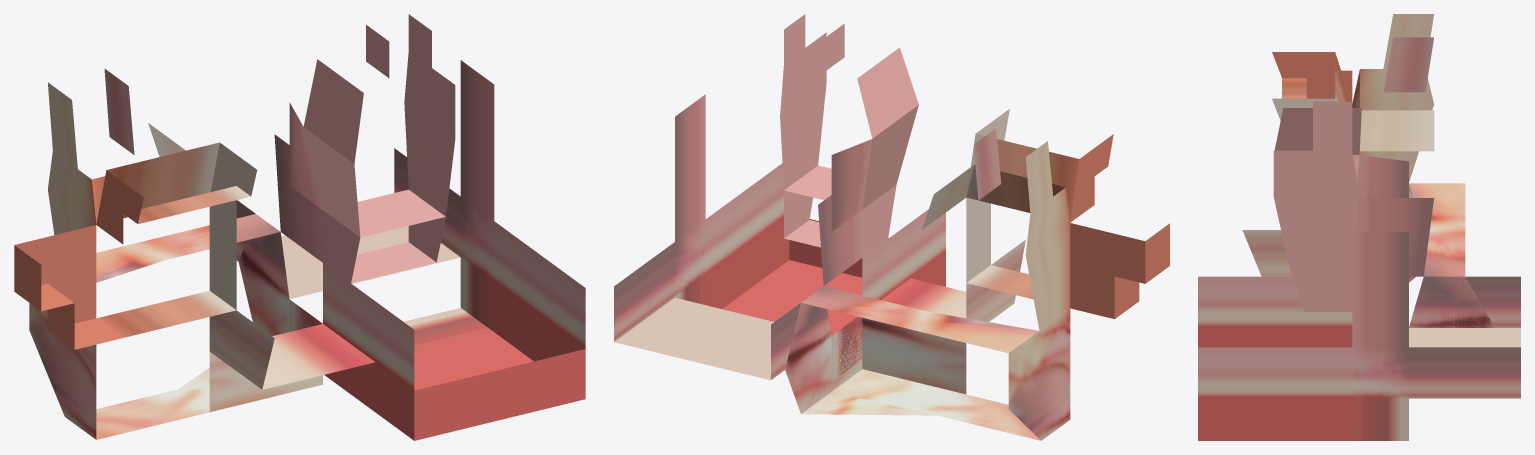
File: MarbleBlock_LR.gltf
The picture shows the model from 3 angles, left to right: view 1: azimuth 30°, elevation 25°; view 2: azimuth 150°, elevation 25°; view 3: azimuth 270°, elevation 25°; orthographic projection. The views are drawn at different scales.
Parts seen in each view (by area): view 1: MarbleBlock_LR; view 2: MarbleBlock_LR; view 3: MarbleBlock_LR.
Part boxes in pixels (box(x1,y1,x2,y2)): MarbleBlock_LR: box(14, 14, 585, 440); MarbleBlock_LR: box(614, 14, 1169, 440); MarbleBlock_LR: box(1198, 14, 1520, 440).
Size of the model in its own units: 25.39 by 17.68 by 17.52.
Materials: 1 (1 with a texture image).
